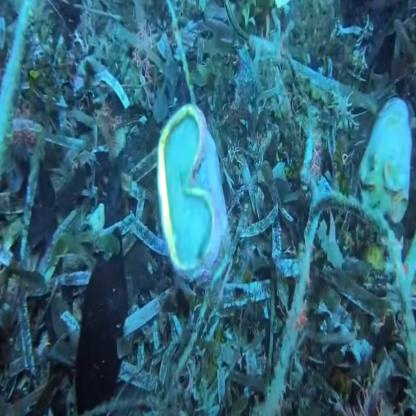pbottle: (362, 64, 416, 209)
sunglasses: (136, 108, 232, 304)
